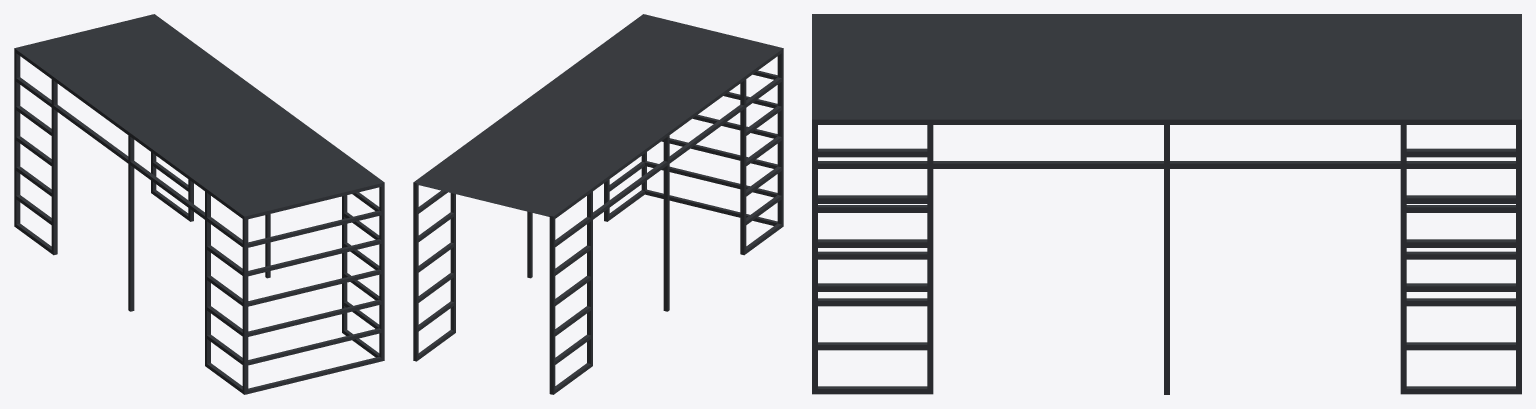
The model's file is SW_corridor__R_lobby_Plane_000.FBX.
3 views of the same model, side by side, from view 1: azimuth 30°, elevation 25°; view 2: azimuth 150°, elevation 25°; view 3: azimuth 270°, elevation 25° (orthographic). The views are drawn at different scales.
Visible parts, largest first — view 1: SW_corridor__R_lobby_Plane_000; view 2: SW_corridor__R_lobby_Plane_000; view 3: SW_corridor__R_lobby_Plane_000.
Boxes of the visible parts, x1,y1,x2,y2 form: SW_corridor__R_lobby_Plane_000: (14, 14, 384, 394); SW_corridor__R_lobby_Plane_000: (413, 14, 783, 394); SW_corridor__R_lobby_Plane_000: (812, 14, 1521, 394).
Size of the model in its own units: 206 by 585 by 251.
